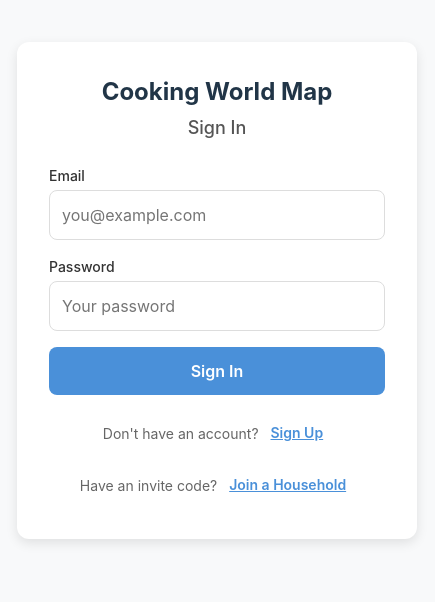
Test: AuthGate › switches between sign-in, sign-up, and join-household modes
Expected: the heading "Sign In" is shown, [188, 116, 246, 138]
# Switch to sign-up
Click the button "Sign Up" at (297, 432), box [262, 410, 331, 454]
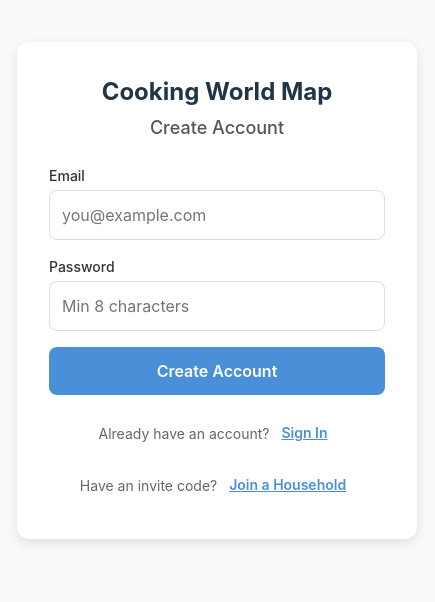
Expected: the heading "Create Account" is shown, [150, 116, 284, 138]
# Switch to join-household
Click the button "Join a Household" at (288, 484), box [221, 462, 354, 506]
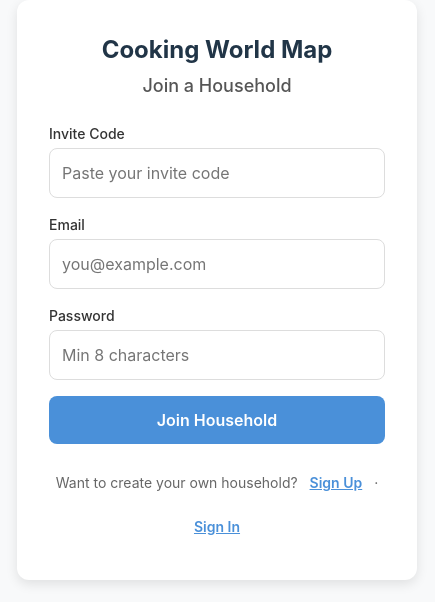
Expected: the heading "Join a Household" is shown, [142, 75, 292, 96]
Expected: the field labelled "Invite Code" is shown, [49, 148, 385, 198]
# Switch back to sign-in
Click the button "Sign In" at (217, 526), box [186, 504, 248, 548]
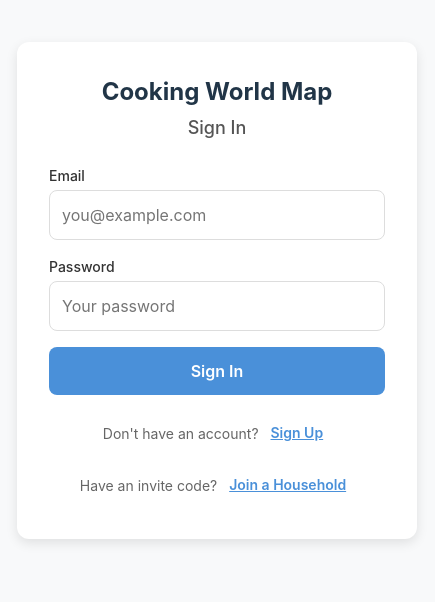
Expected: the heading "Sign In" is shown, [188, 116, 246, 138]
